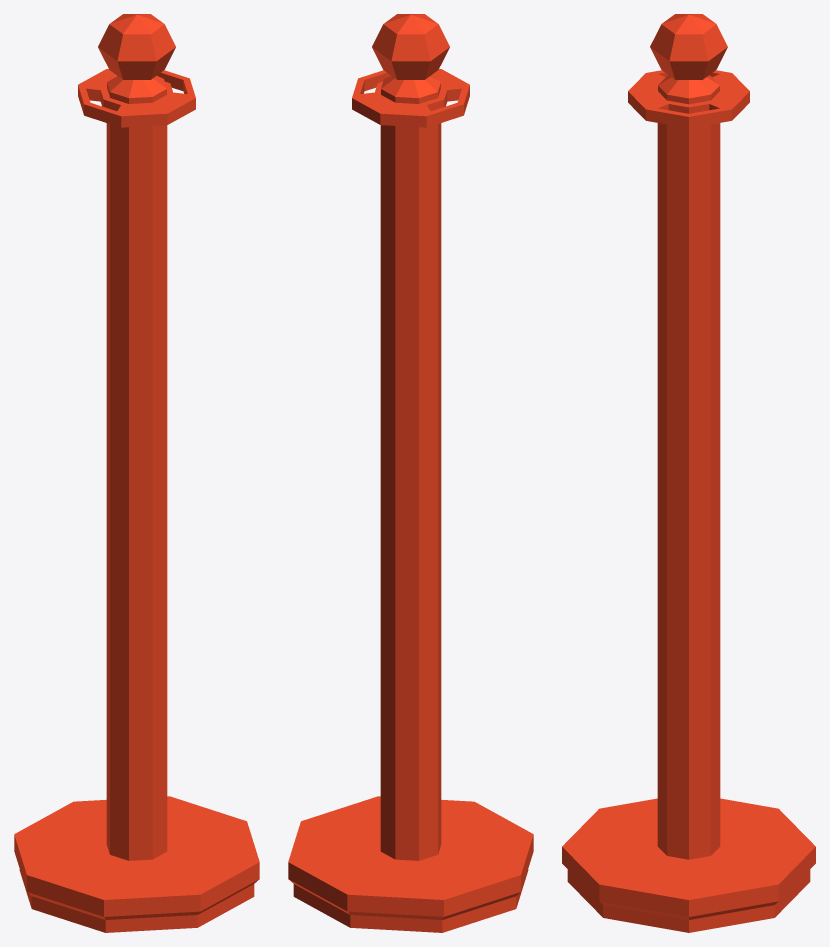
Rendered from SM_Fence_Cinema_B_City.fbx.
3 views of the same model, side by side, from view 1: azimuth 30°, elevation 25°; view 2: azimuth 150°, elevation 25°; view 3: azimuth 270°, elevation 25° (orthographic).
Parts seen in each view (by area): view 1: SM_Fence_Cinema_B_City; view 2: SM_Fence_Cinema_B_City; view 3: SM_Fence_Cinema_B_City.
Part boxes in pixels (<box>): SM_Fence_Cinema_B_City: <box>14,14,259,932</box>; SM_Fence_Cinema_B_City: <box>288,14,533,932</box>; SM_Fence_Cinema_B_City: <box>562,14,815,932</box>.
Bounding box in the file's own units: 0.3171 × 1.2 × 0.3171.
